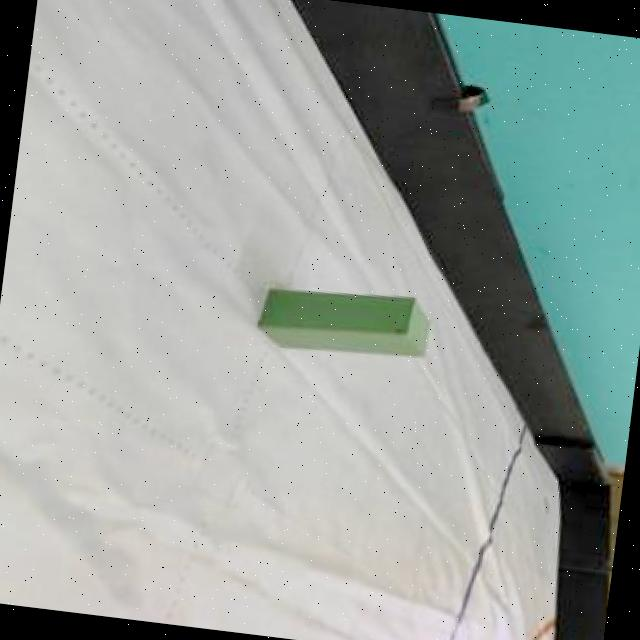greenbox: (250, 276, 435, 366)
